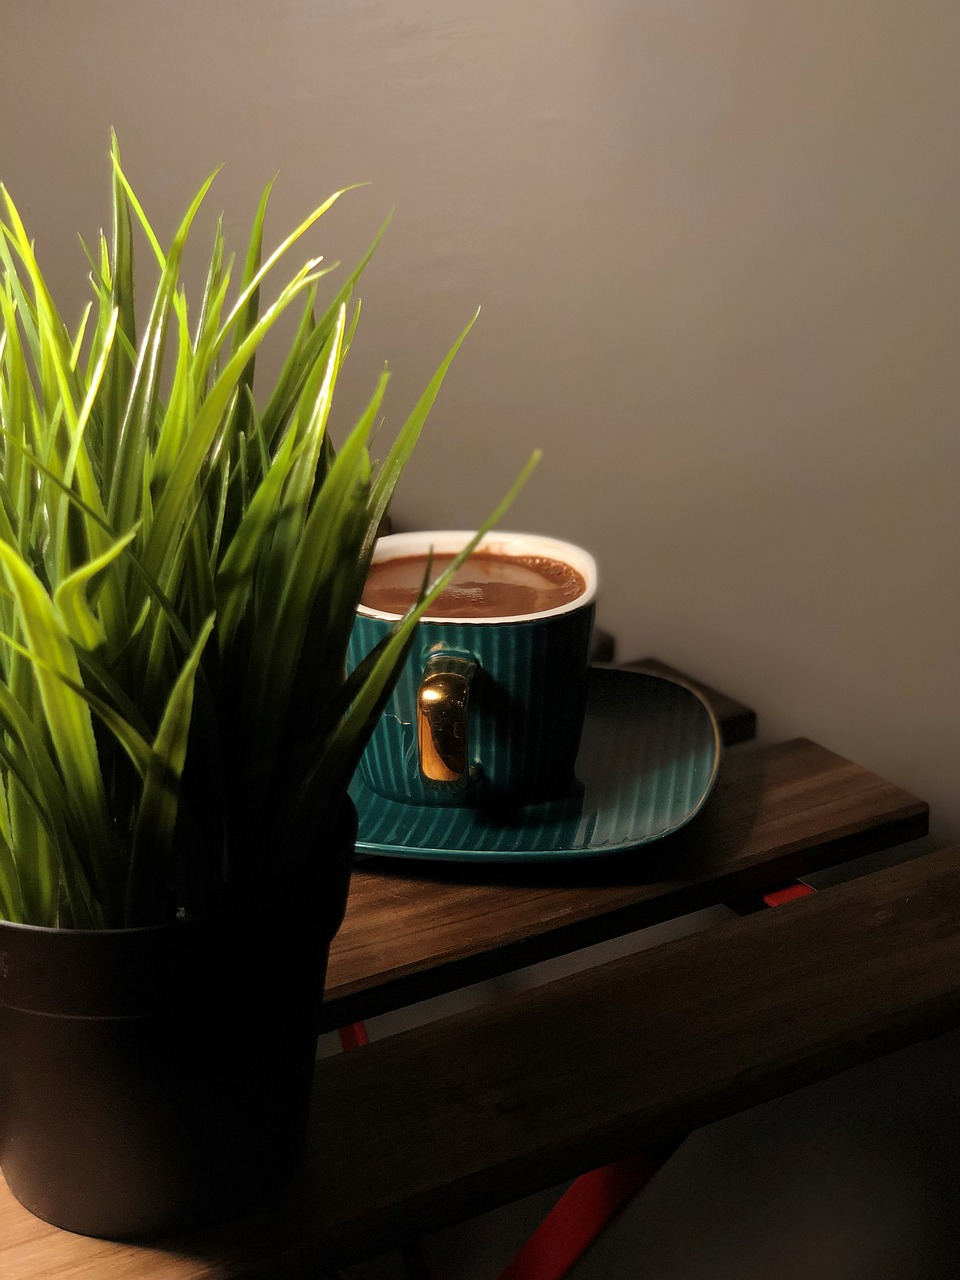mug: (280, 497, 641, 834)
